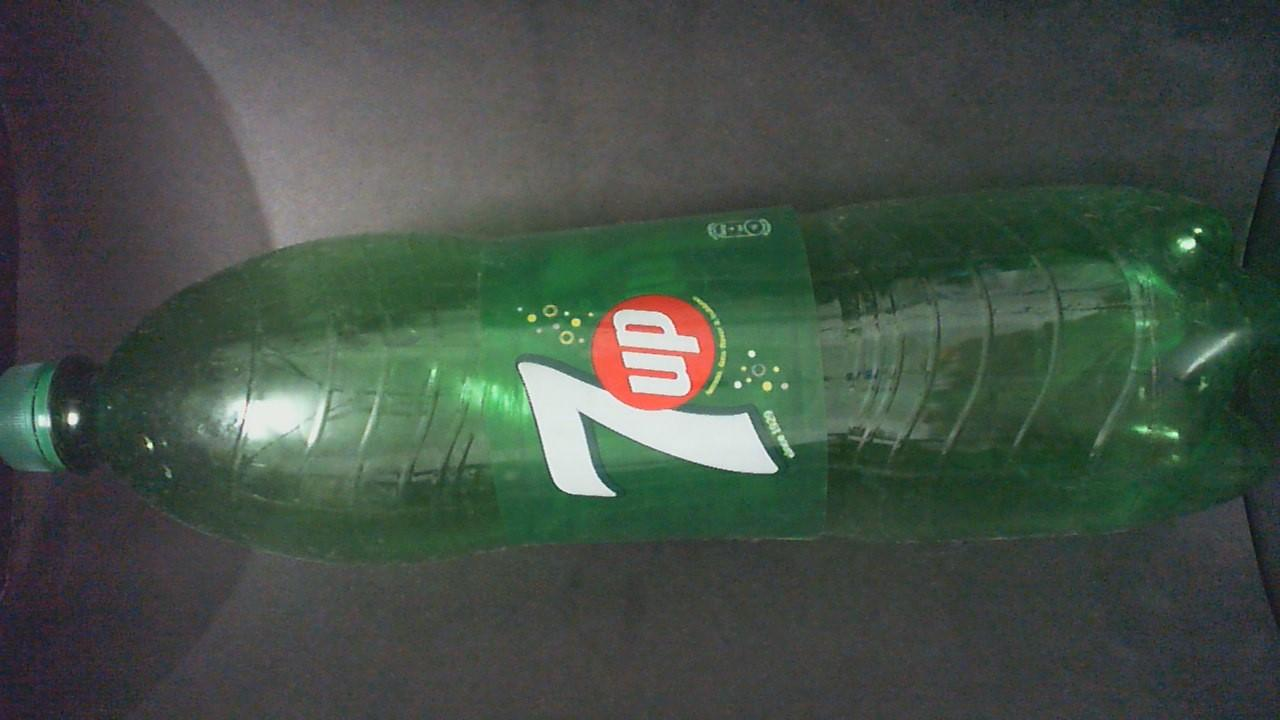Bottle: (0, 188, 1279, 561)
